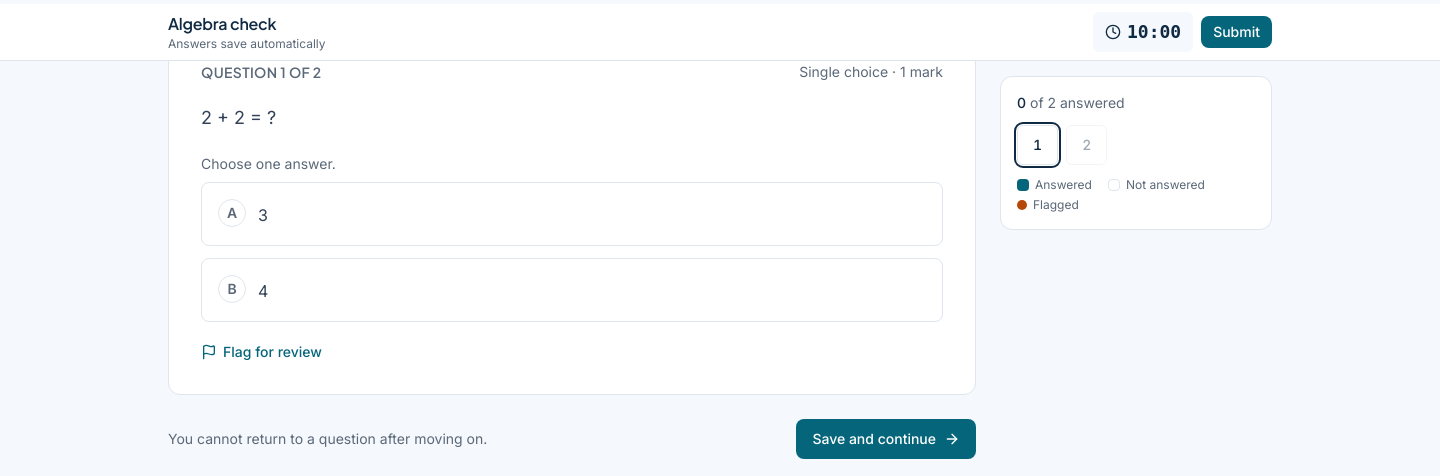
Test: ExamPlayer › records moving on and hides Previous when going back is not allowed
Click the button "Save and continue" at x=886, y=439, box top-left (796, 419), bottom-right (976, 459)
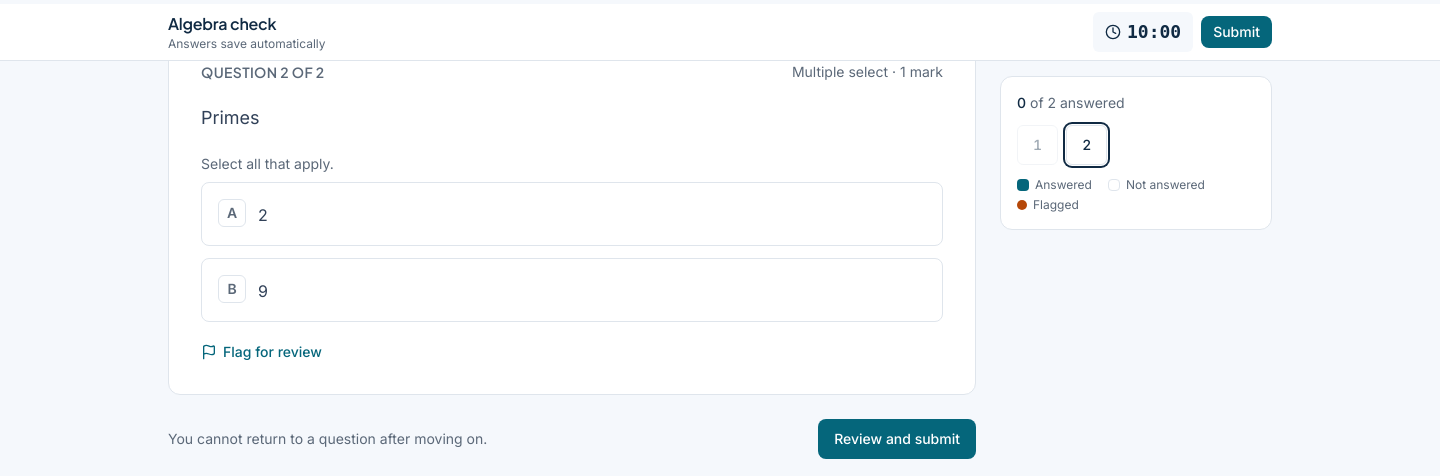
Expected: the heading "Question 2 of 2" is shown, top-left (201, 62), bottom-right (324, 82)
Expected: the button named "Question 1," is disabled, top-left (1017, 125), bottom-right (1058, 165)
